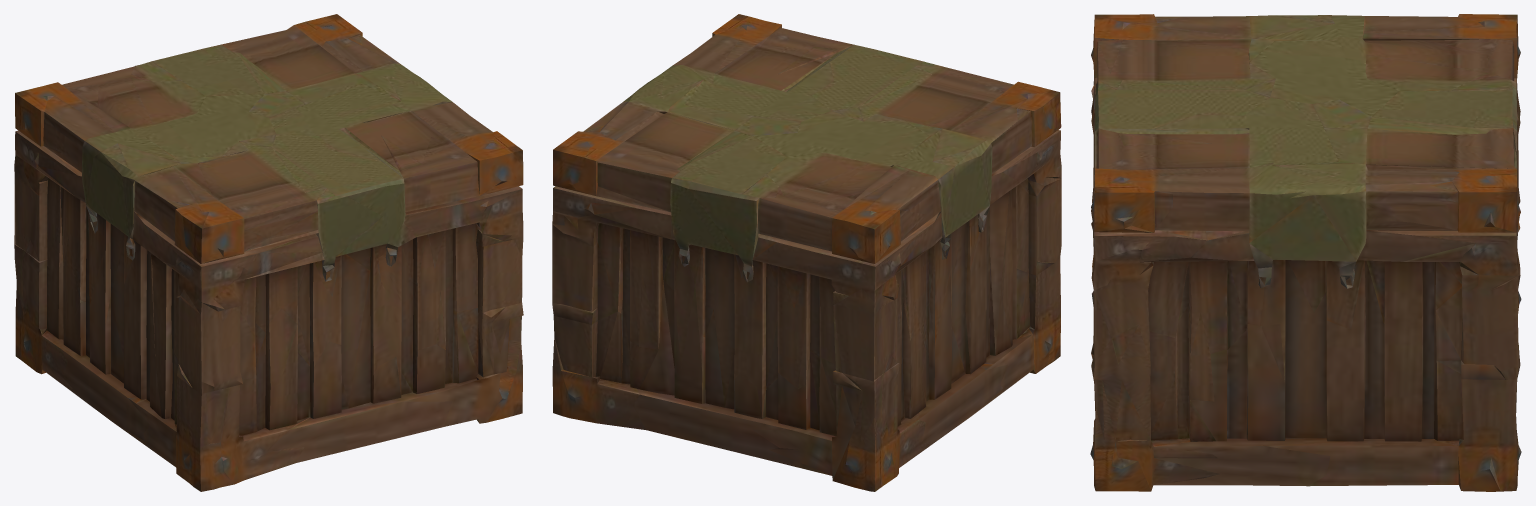
File: crate.glb
3 renders of one model, left to right at view 1: azimuth 30°, elevation 25°; view 2: azimuth 150°, elevation 25°; view 3: azimuth 270°, elevation 25°, orthographic. The views are drawn at different scales.
Size of the model in its own units: 1.9 by 1.48 by 1.9.
Materials: 1 (1 with a texture image).
